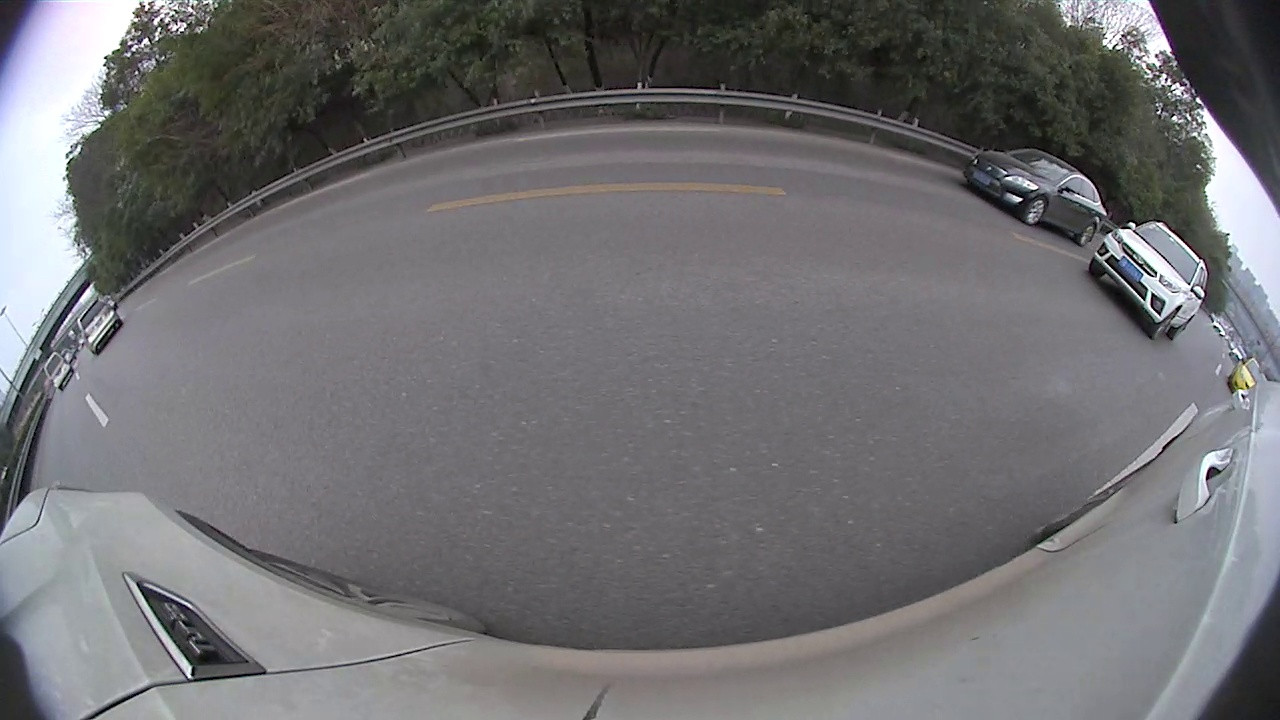car: (582, 101, 836, 268), (1, 318, 159, 524), (990, 204, 1111, 290), (464, 154, 567, 217), (1203, 335, 1279, 404), (847, 167, 931, 224), (930, 186, 1012, 242), (829, 143, 854, 220), (562, 156, 587, 190)
front: (21, 417, 125, 516), (1216, 355, 1243, 390)
rear: (1053, 254, 1075, 279), (951, 206, 967, 236), (865, 192, 878, 219), (536, 188, 546, 210)
